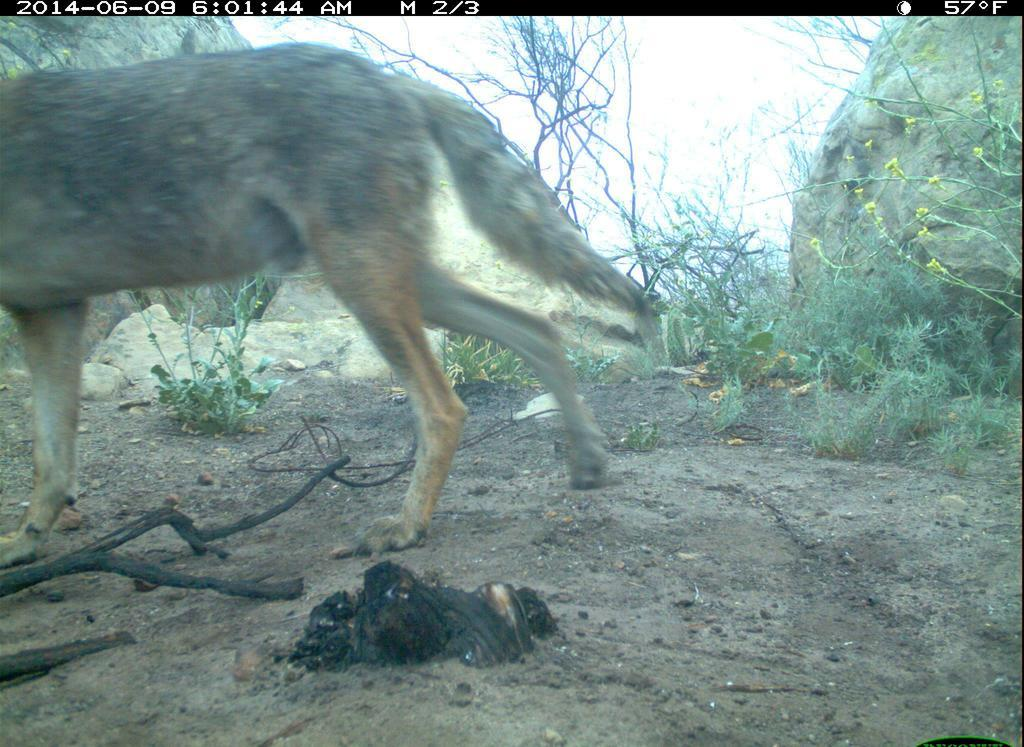coyote: (7, 43, 656, 557)
